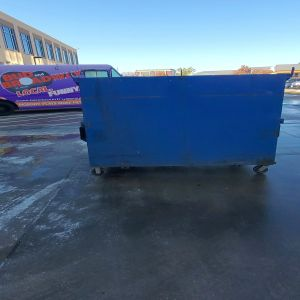Dumpster: (71, 76, 292, 177)
